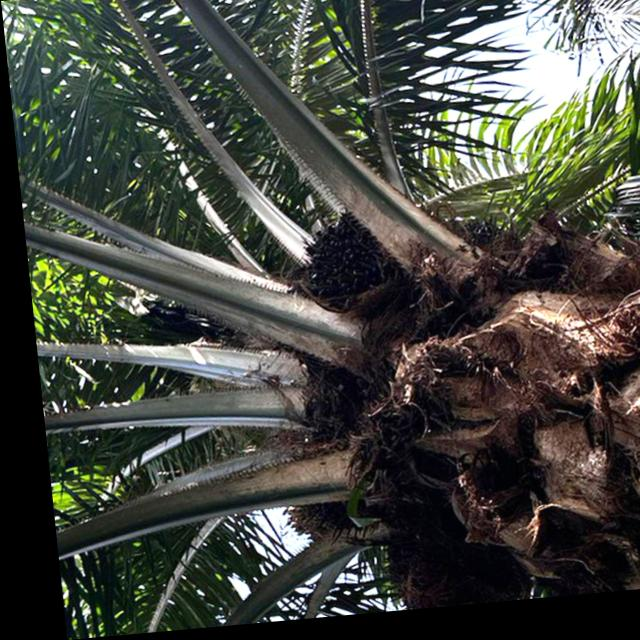unripe: (268, 343, 395, 561), (274, 196, 394, 322)
